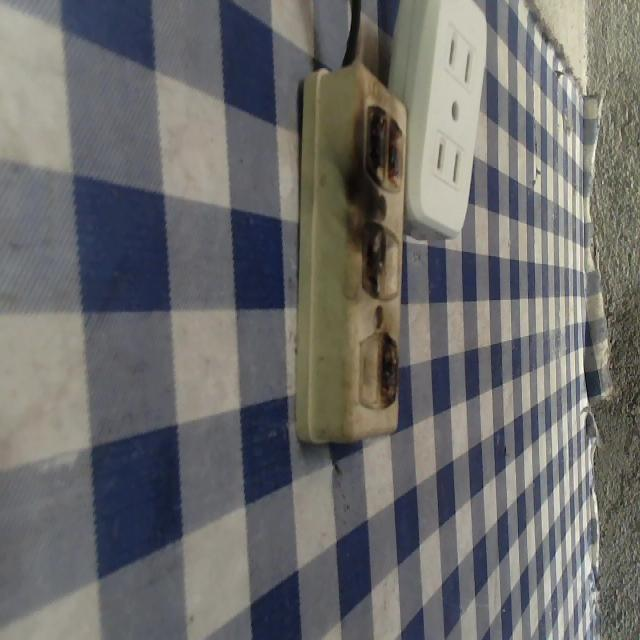-: (356, 94, 412, 194), (342, 216, 390, 304), (376, 335, 400, 405)
